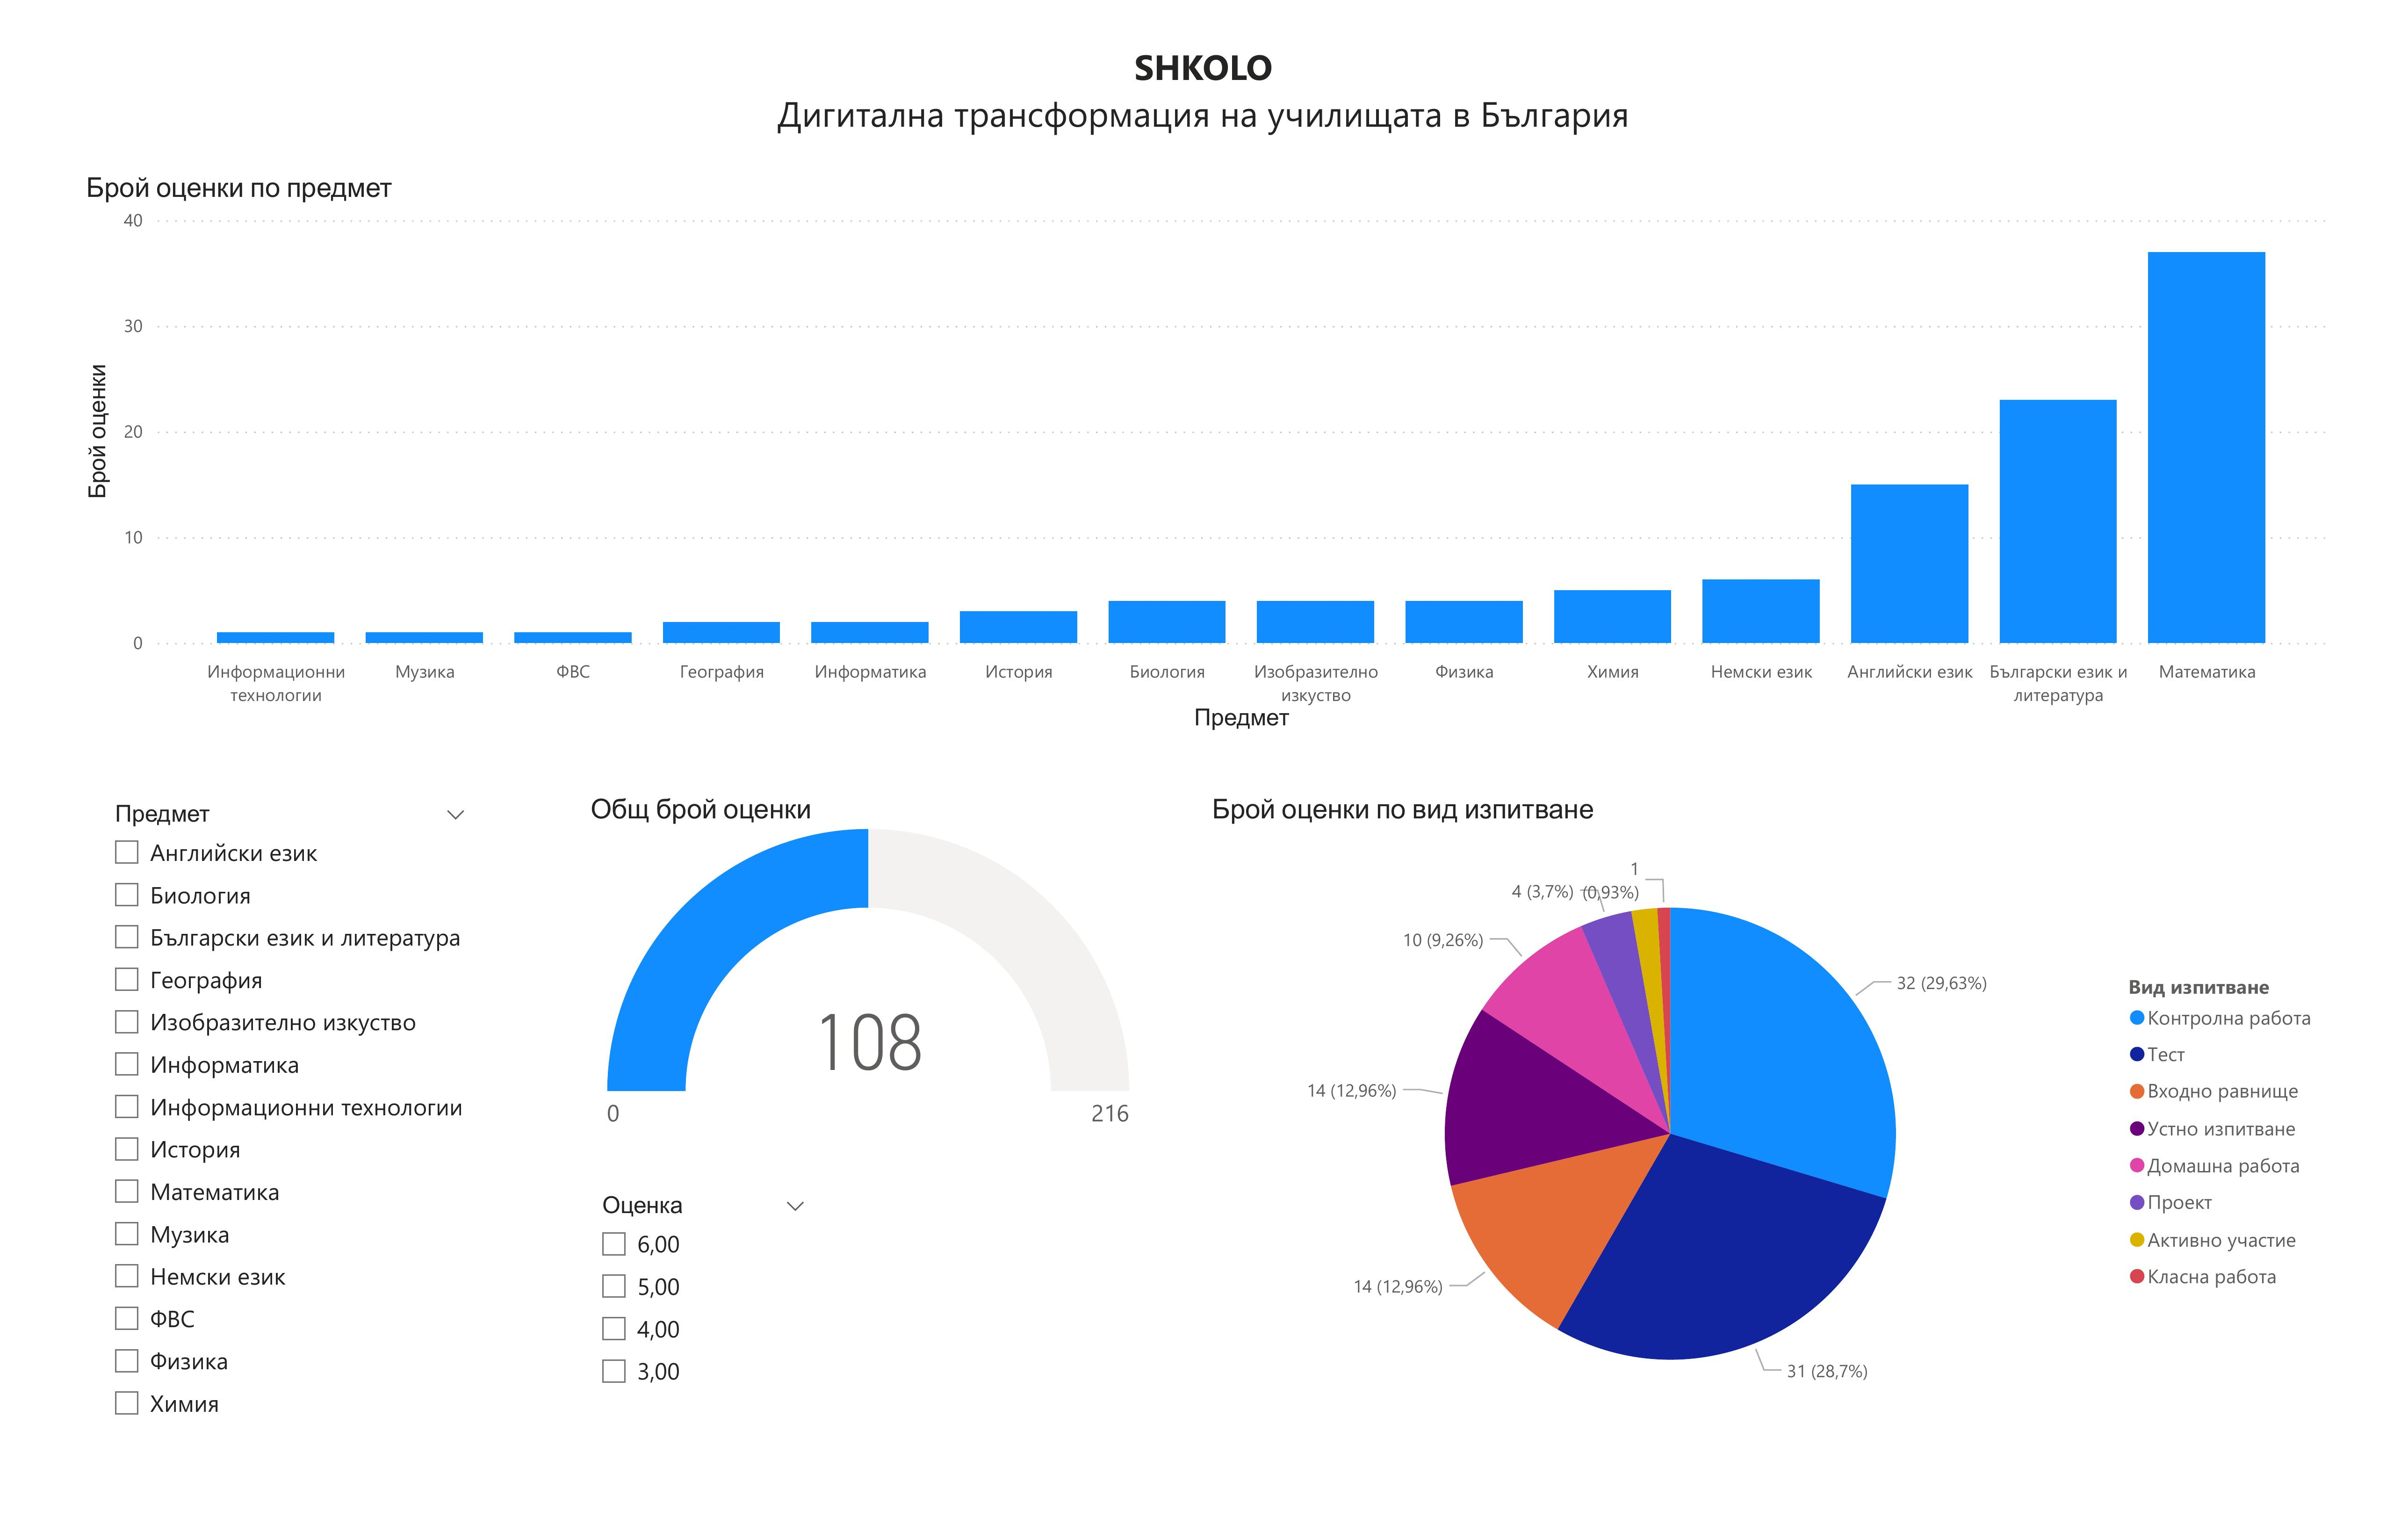

The page's visual inventory and layout, read from the dashboard file:
{"tool":"powerbi","page":{"name":"Grades","canvas":[1600,1000],"ordinal":0},"visuals":[{"type":"clusteredColumnChart","title":"Брой оценки по предмет","fields":{"Y":["CountNonNull(GRADE.GRADE_ID)"],"Category":["SUBJECT.SUBJECT_NAME"]},"box":[30.2,93.8,1542.7,386.9],"z":0},{"type":"textbox","box":[495.8,0,608,78.7],"z":1000},{"type":"pieChart","title":"Брой оценки по вид изпитване","fields":{"Y":["CountNonNull(GRADE.GRADE_ID)"],"Category":["GRADE_TYPE.GRADE_TYPE_NAME"]},"box":[800.7,519.3,772.2,445.6],"z":2000},{"type":"slicer","fields":{"Values":["GRADE.GRADE_VALUE"]},"box":[375.2,787.3,164.2,154.1],"z":3000},{"type":"slicer","fields":{"Values":["SUBJECT.SUBJECT_NAME"]},"box":[42.2,519.8,265,438.8],"z":4000},{"type":"gauge","fields":{"Y":["CountNonNull(GRADE.GRADE_ID)"]},"box":[375.2,519.3,390.3,239.5],"z":5000}]}

Visuals, with their boxes on the page's 1600x1000 design canvas (x1, y1, x2, y2). These are canvas units, not pixel positions in the 2408x1532 screenshot, which may show the page scaled, cropped or inside an application window:
"Брой оценки по предмет" clusteredColumnChart: crop(30, 94, 1573, 481)
textbox: crop(496, 0, 1104, 79)
"Брой оценки по вид изпитване" pieChart: crop(801, 519, 1573, 965)
slicer - GRADE.GRADE_VALUE: crop(375, 787, 539, 941)
slicer - SUBJECT.SUBJECT_NAME: crop(42, 520, 307, 959)
gauge - CountNonNull(GRADE.GRADE_ID): crop(375, 519, 766, 759)
